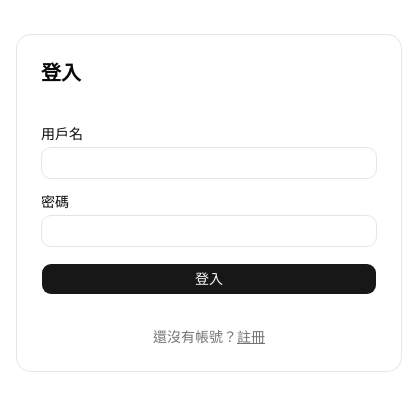
LoginPage › shows server error message on 401
Type "alice" into the field labelled "用戶名" at (209,163), box [41,147,377,179]
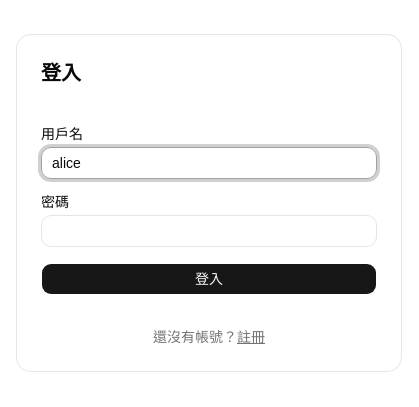
Type "secret1" into the password field labelled "密碼" at (209,231), box [41,215,377,247]
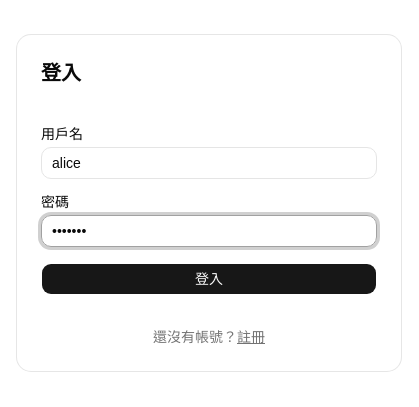
Click the button "登入" at (209,279), box [41,263,377,295]
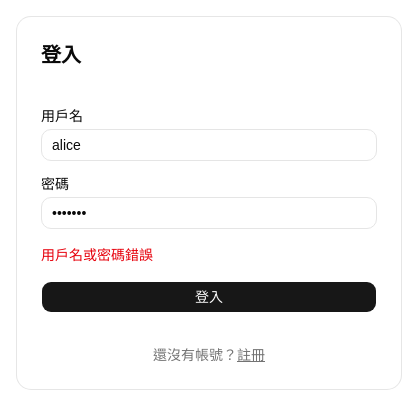
Now the text "用戶名或密碼錯誤" is shown, box [41,247,153,263]
